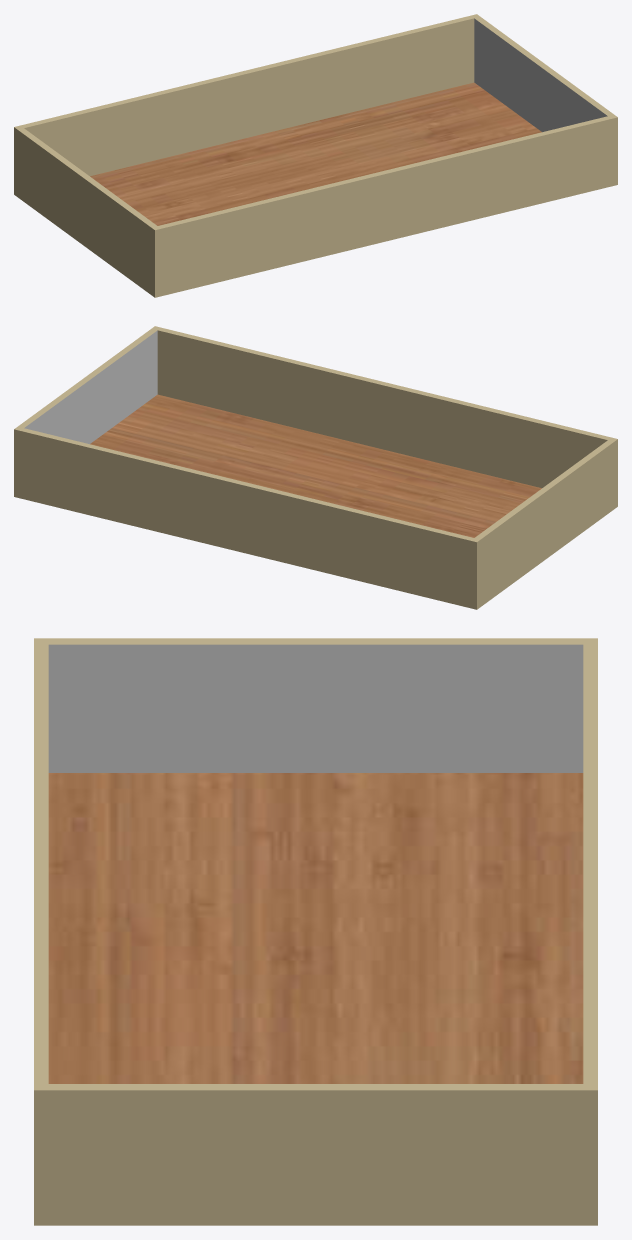
The model's file is room1.glb.
The picture shows the model from 3 angles, top to bottom: view 1: azimuth 30°, elevation 25°; view 2: azimuth 150°, elevation 25°; view 3: azimuth 270°, elevation 25°; orthographic projection. The views are drawn at different scales.
Visible parts, largest first — view 1: Cube; view 2: Cube; view 3: Cube.
Boxes of the visible parts, box(x1,y1,x2,y2) form: Cube: box(14, 14, 617, 297); Cube: box(14, 326, 617, 609); Cube: box(34, 638, 597, 1225).
Bounding box in the file's own units: 33.73 × 4.71 × 17.8.
Materials: 3 (1 with a texture image).
